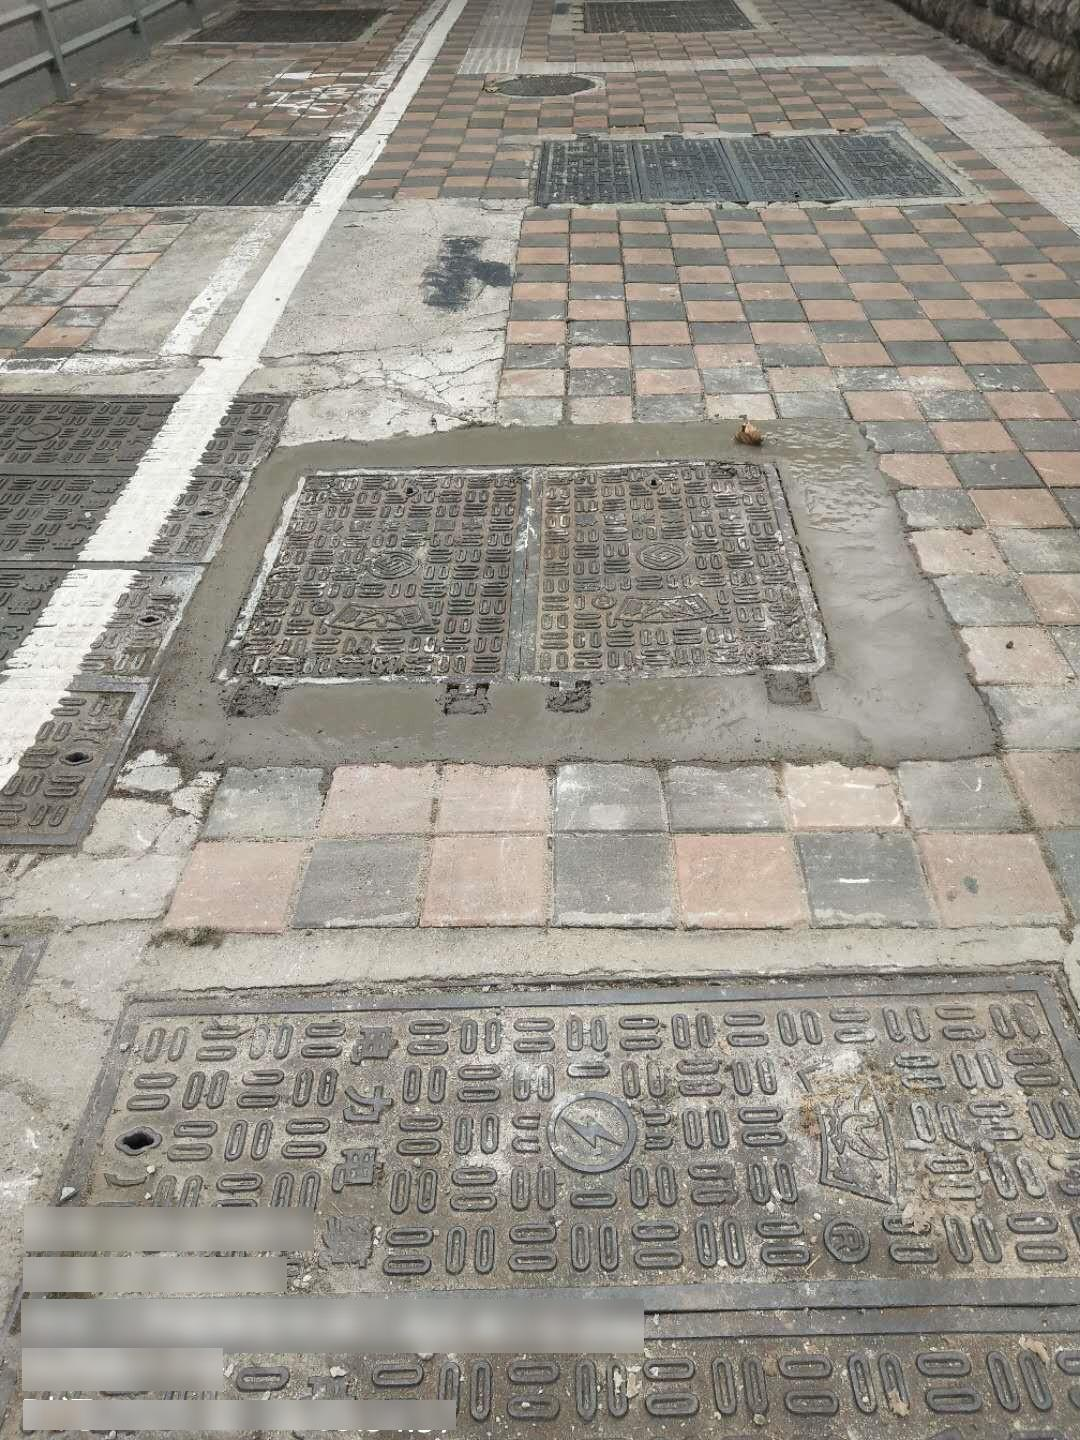wellcover: (40, 943, 1080, 1440), (0, 344, 318, 896), (223, 443, 842, 719), (475, 88, 1041, 282), (6, 76, 341, 227), (513, 0, 813, 43), (185, 0, 389, 56)
